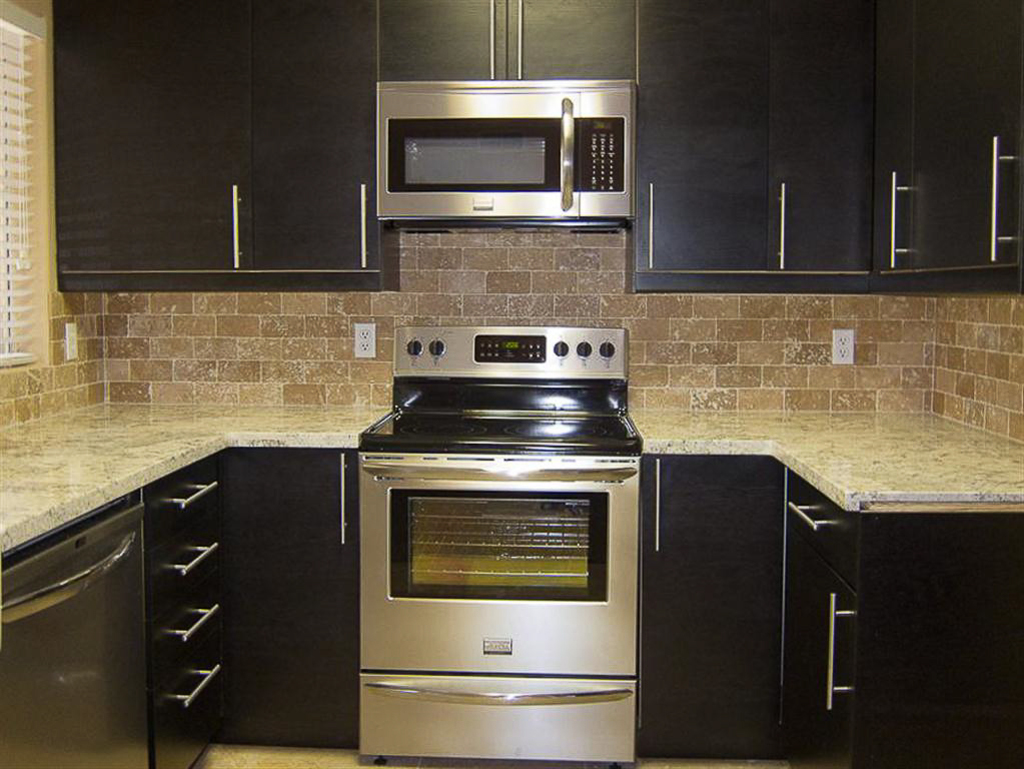Cabinetry: (35, 0, 911, 769)
